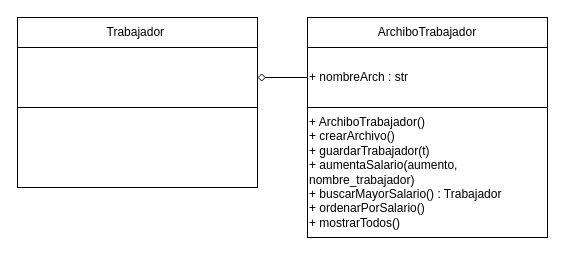
The diagram is 565 pixels wide and 255 high, and some of its shapes have lost their labels. The centre of each missing label's shape, as x and y in pixels:
"+ nombre : str + carnet : str + salario : float" belongs at (x=137, y=77).
"+ Trabajador(nombre, carnet, salario) + __str__() : str" belongs at (x=137, y=147).
